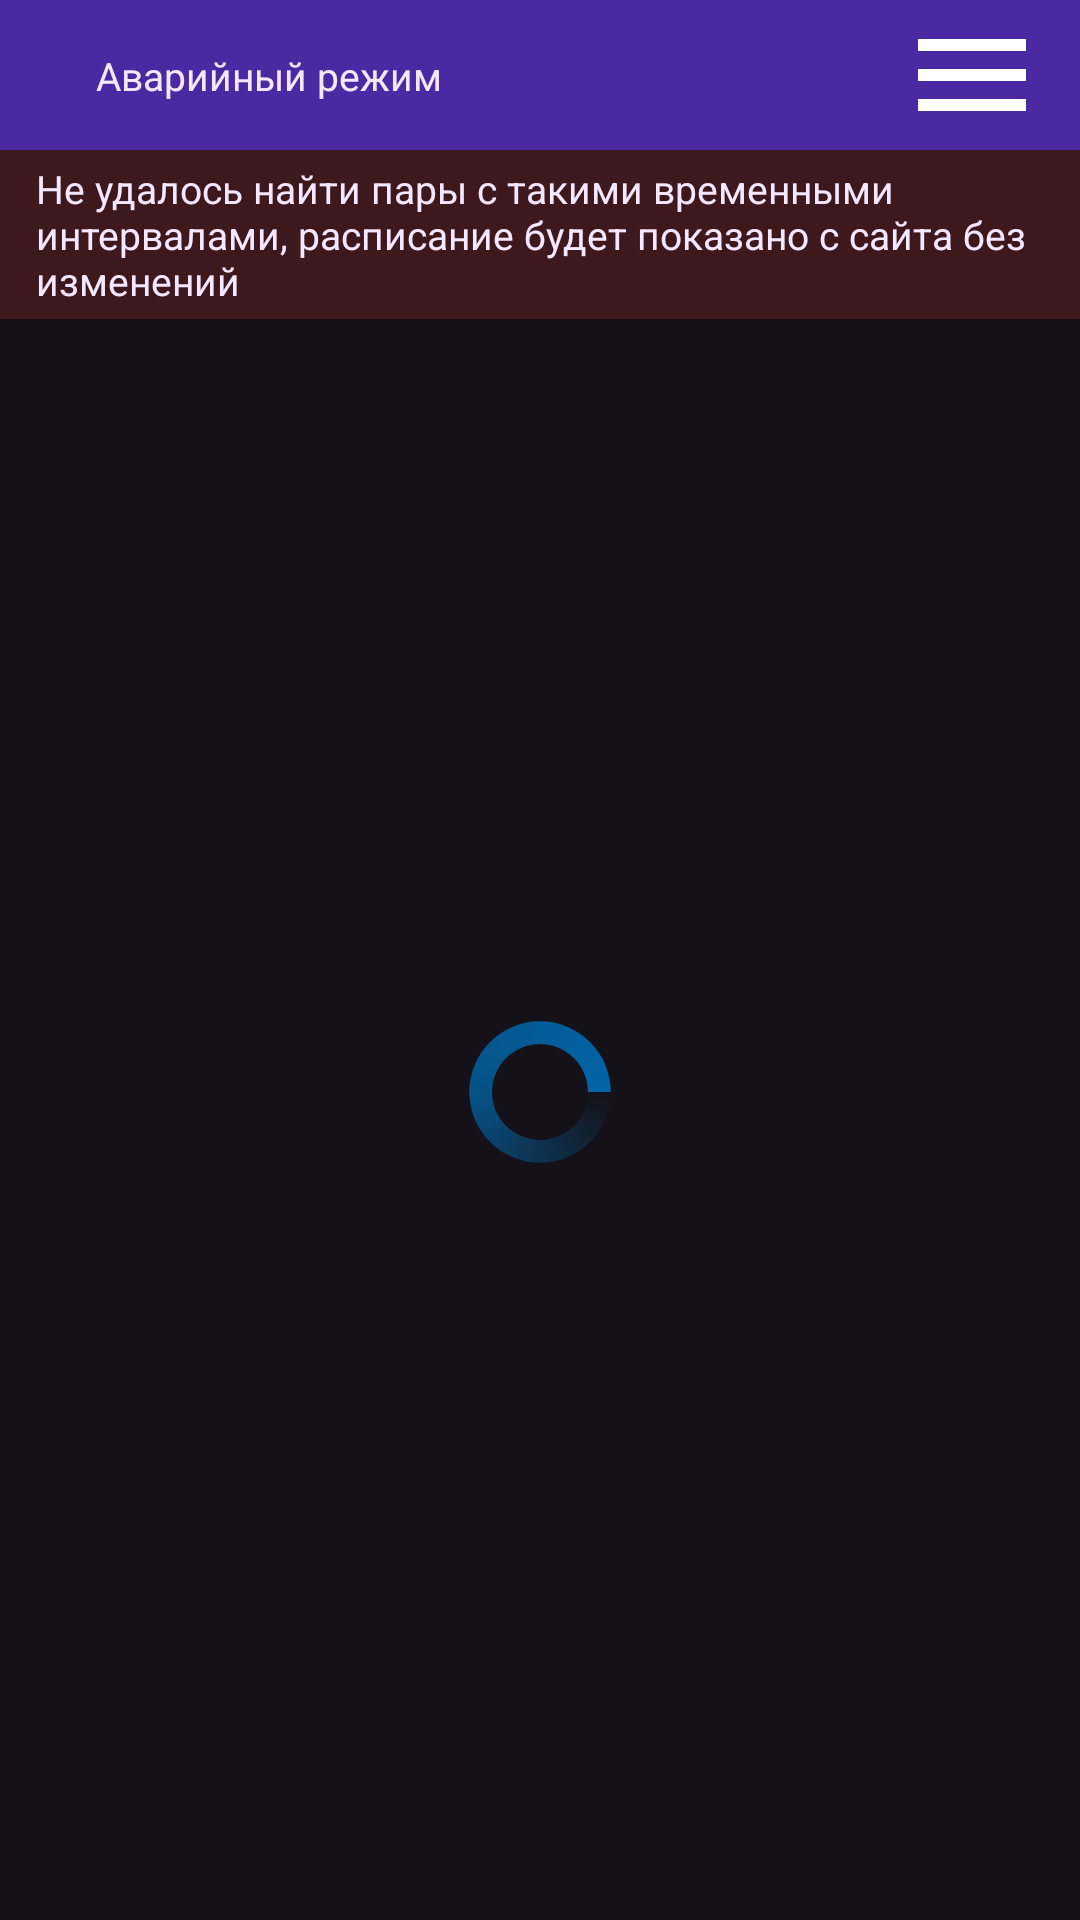

Icon bounding boxes for this 1080×1920 phone screenshot, format [x1, y1, x2, y2]:
menu: [918, 39, 1026, 111]
